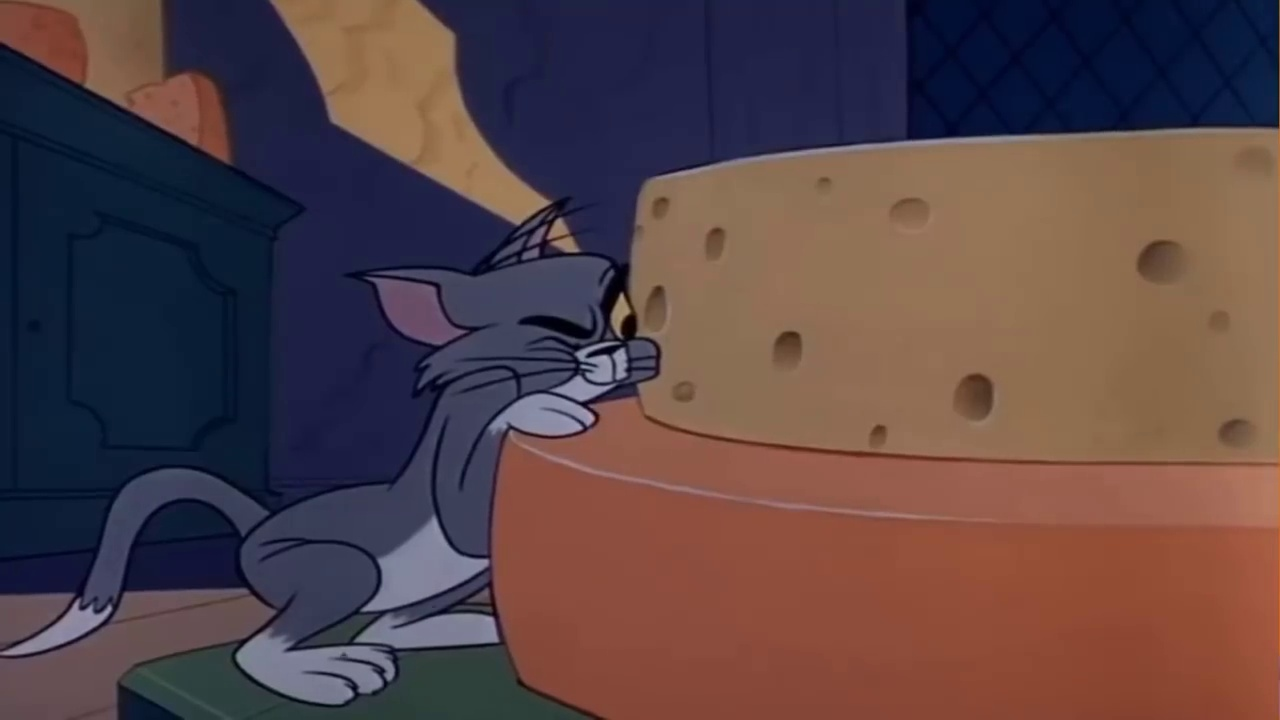face: (512, 269, 650, 400)
